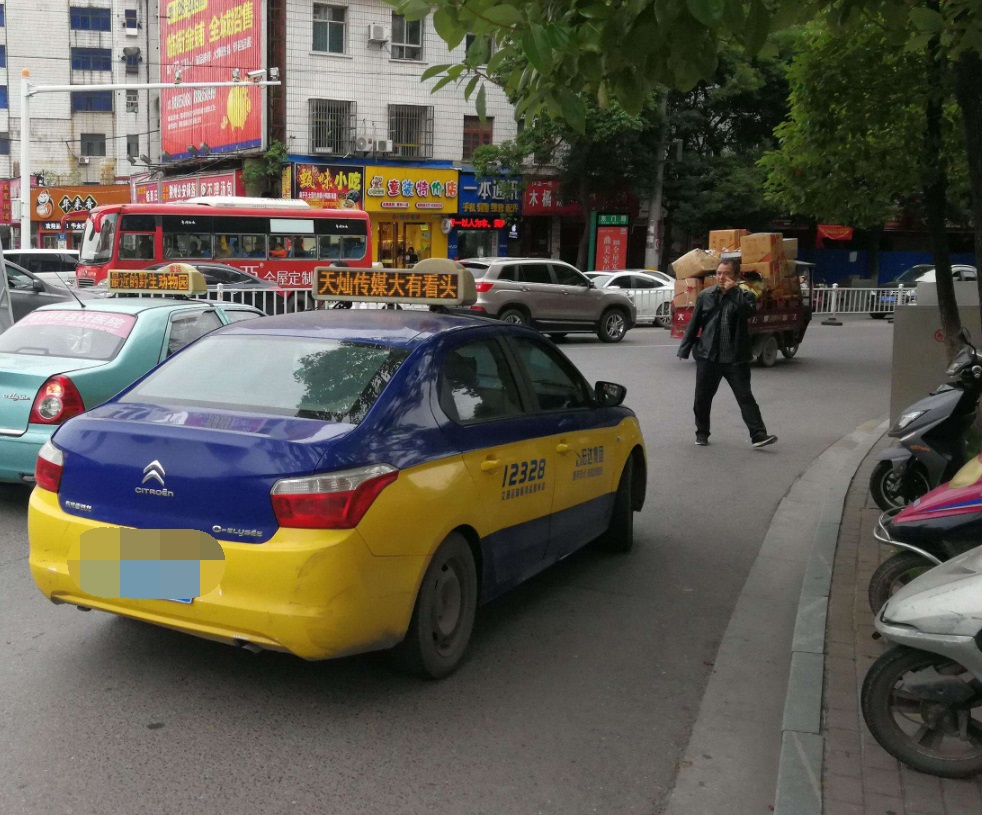taxi: (22, 260, 659, 677)
